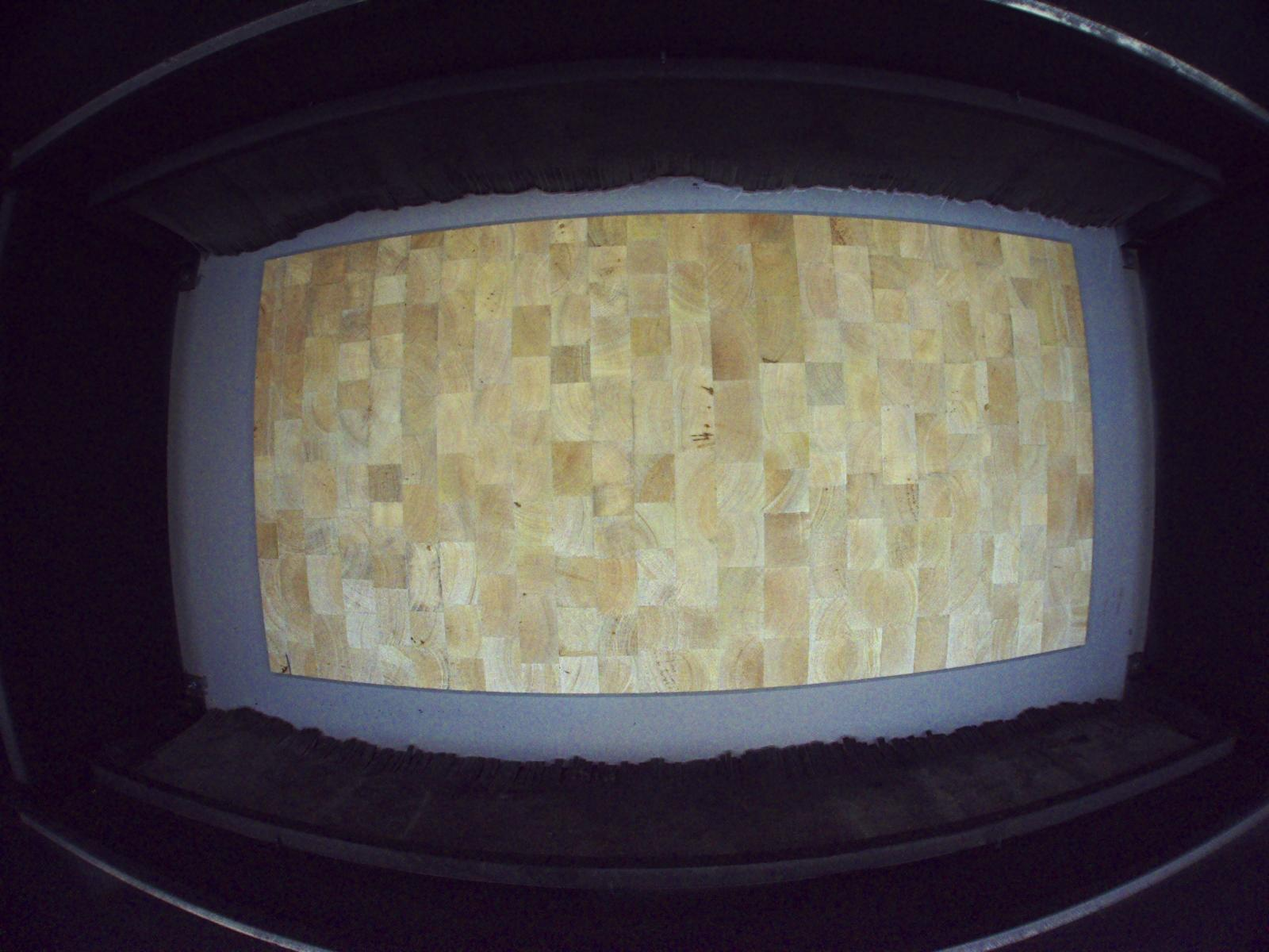nudillo: (279, 664, 289, 674)
